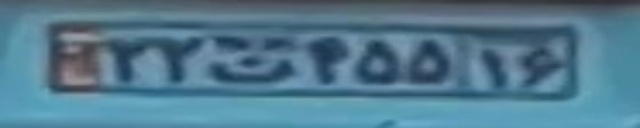1: (478, 46, 508, 88)
2: (158, 34, 199, 84), (110, 37, 146, 83)
4: (306, 37, 347, 84)
5: (355, 40, 398, 82), (409, 40, 448, 82)
6: (517, 49, 566, 86)
te: (205, 53, 294, 83)
